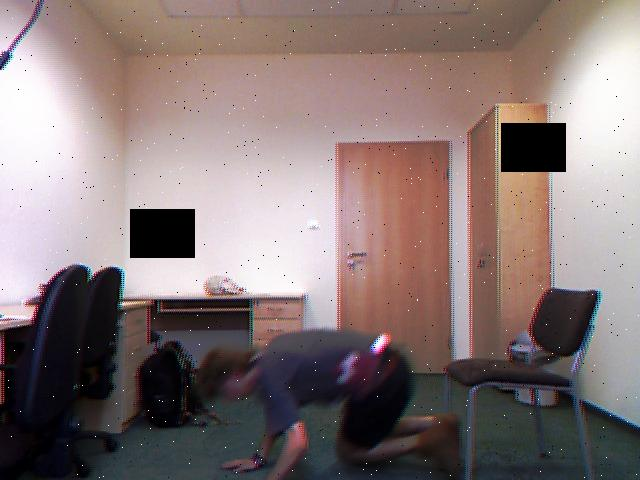fall: (198, 327, 474, 480)
